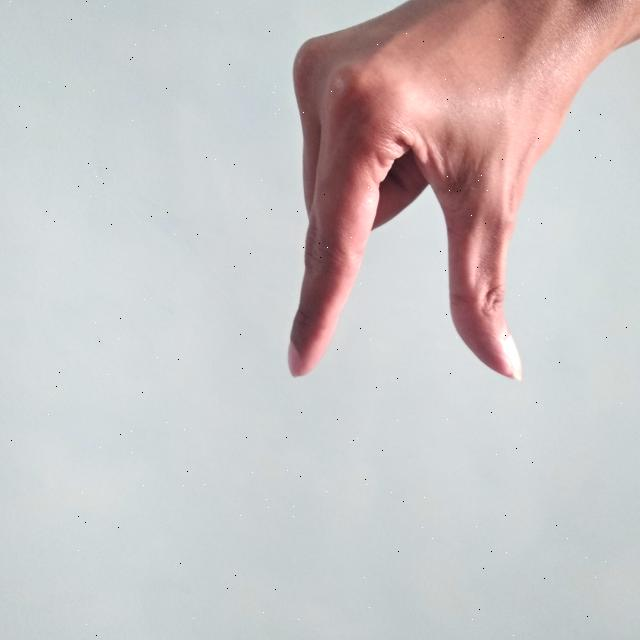Q: (276, 0, 640, 385)
